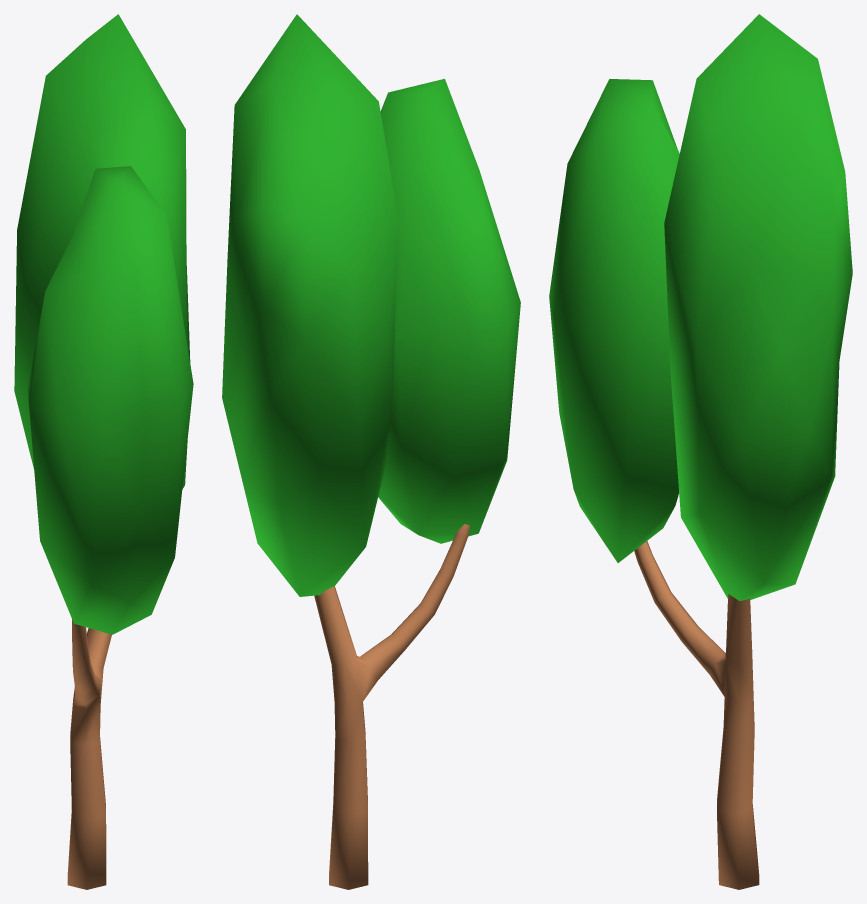
The model's file is TraHojbush5.FBX.
3 views of the same model, side by side, from view 1: azimuth 30°, elevation 25°; view 2: azimuth 150°, elevation 25°; view 3: azimuth 270°, elevation 25° (orthographic). The views are drawn at different scales.
Parts seen in each view (by area): view 1: _GeoSphere017, _GeoSphere018, _Cylinder005; view 2: _GeoSphere018, _GeoSphere017, _Cylinder005; view 3: _GeoSphere018, _GeoSphere017, _Cylinder005.
Boxes of the visible parts, bbox=[...] form: _GeoSphere017: bbox=[27, 166, 193, 634]; _GeoSphere018: bbox=[14, 14, 190, 489]; _Cylinder005: bbox=[67, 619, 111, 889]; _GeoSphere018: bbox=[222, 14, 397, 596]; _GeoSphere017: bbox=[378, 78, 520, 543]; _Cylinder005: bbox=[314, 524, 469, 889]; _GeoSphere018: bbox=[664, 14, 852, 601]; _GeoSphere017: bbox=[549, 79, 679, 562]; _Cylinder005: bbox=[634, 541, 759, 889].
Size of the model in its own units: 56.07 by 214 by 66.48.
